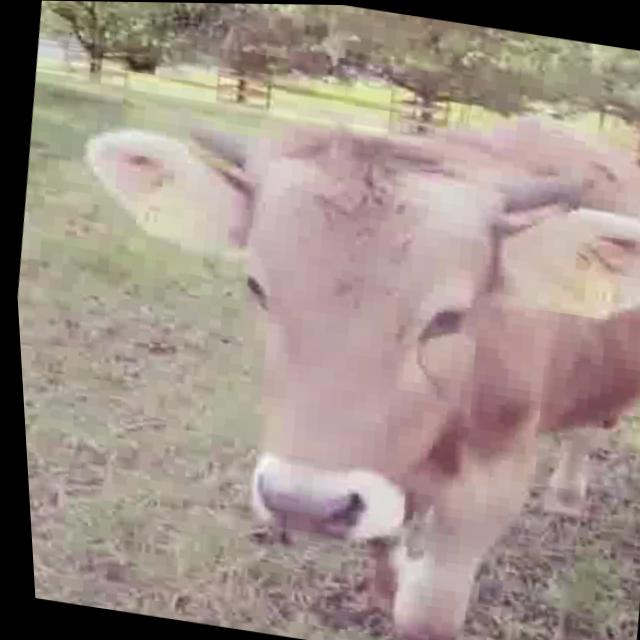cowFace: (36, 65, 640, 591)
